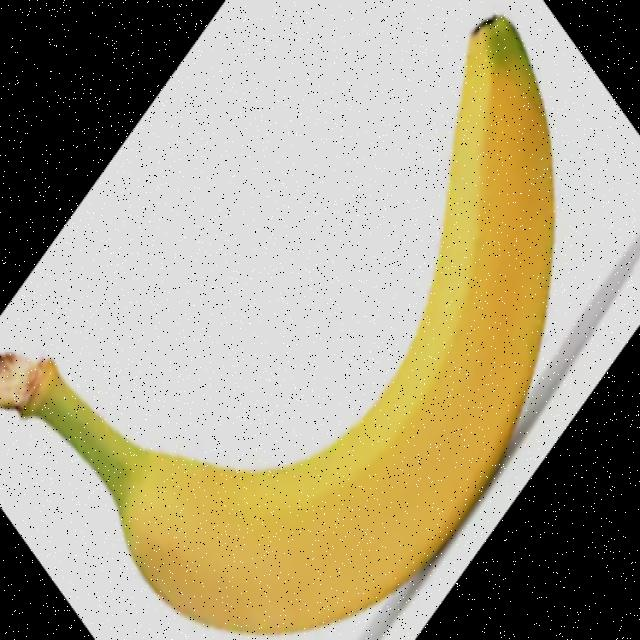god quality banana: (0, 19, 555, 632)
